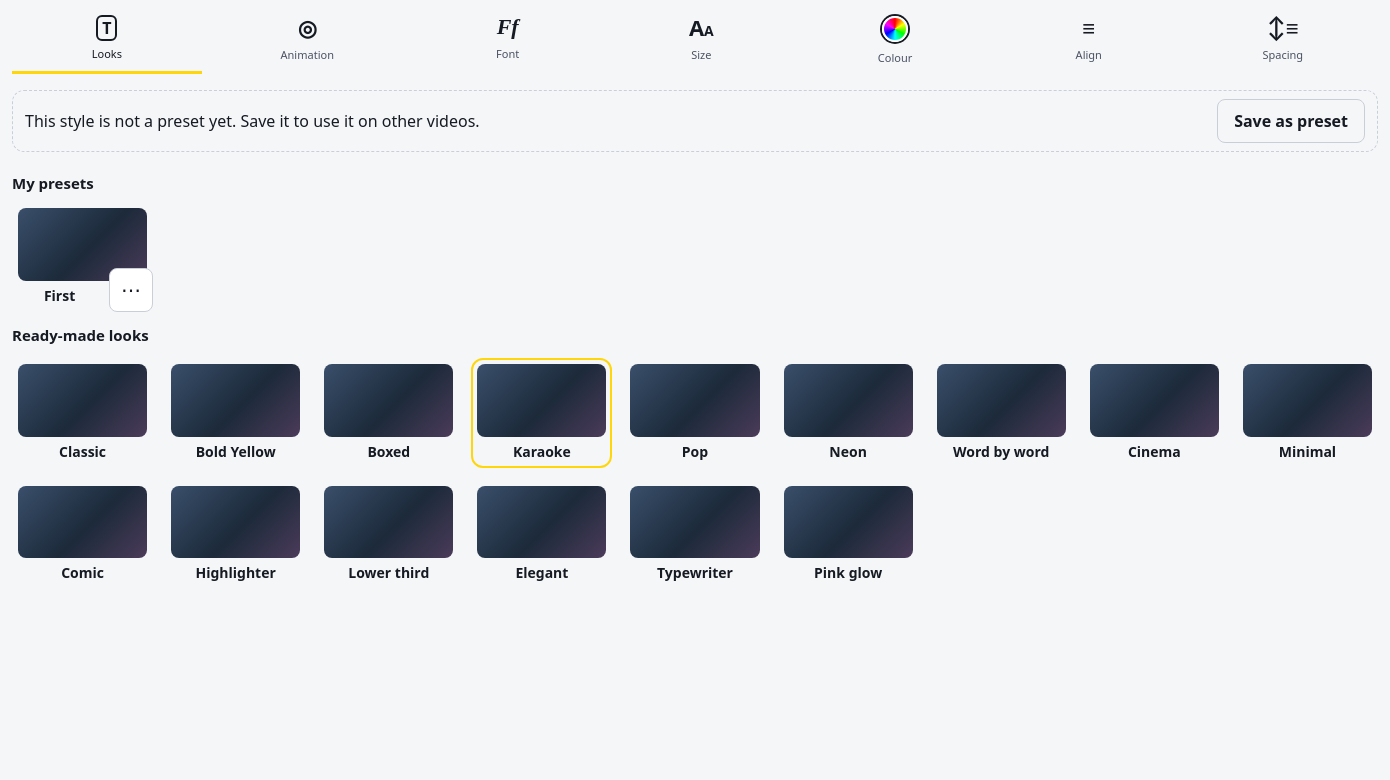
Test case: Presets › renames, replaces with the current style, and deletes after asking
This screenshot has width=1390, height=780.
Step 1. Click the button named "Options for First" → (131,290), box [109,268,153,312]
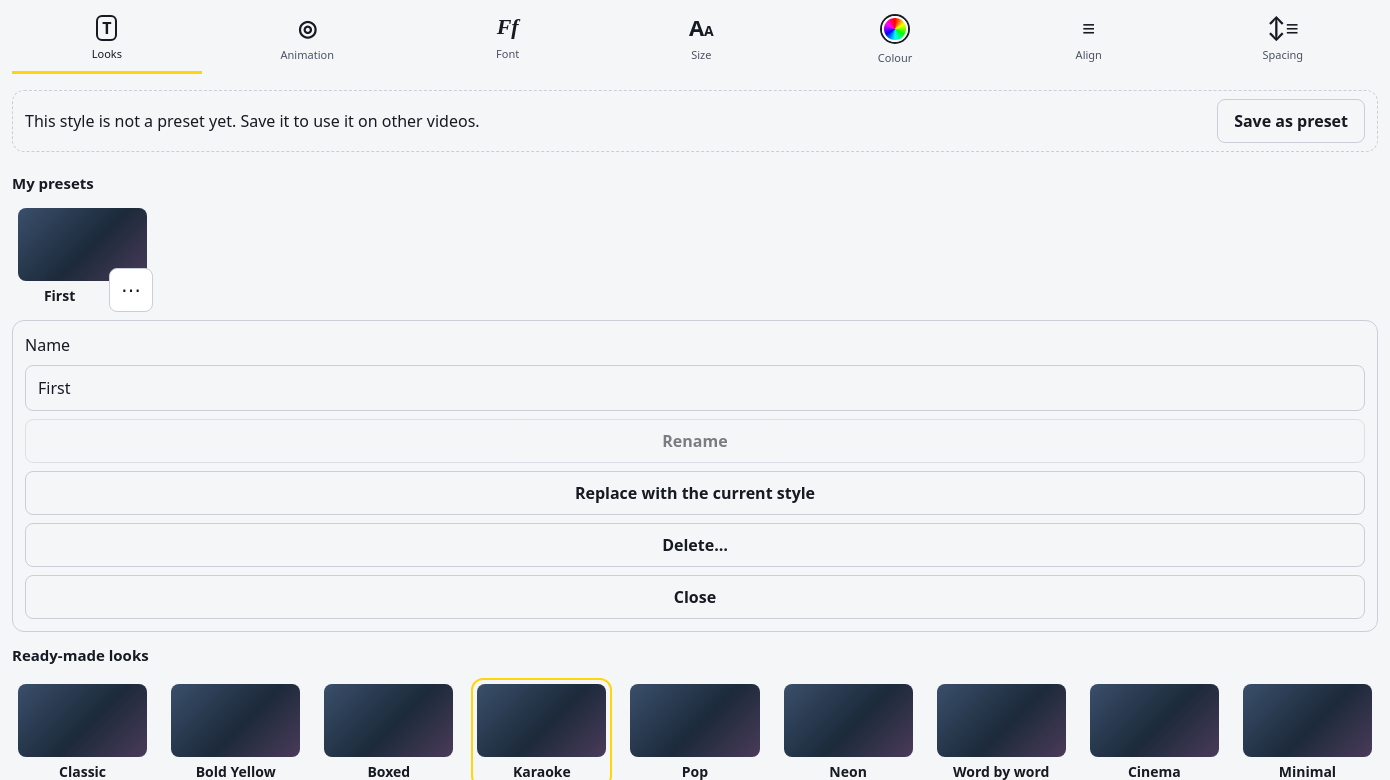
Step 2. Replace the text in the field labelled "Name" with "Renamed" → (695,388), box [25,365,1365,411]
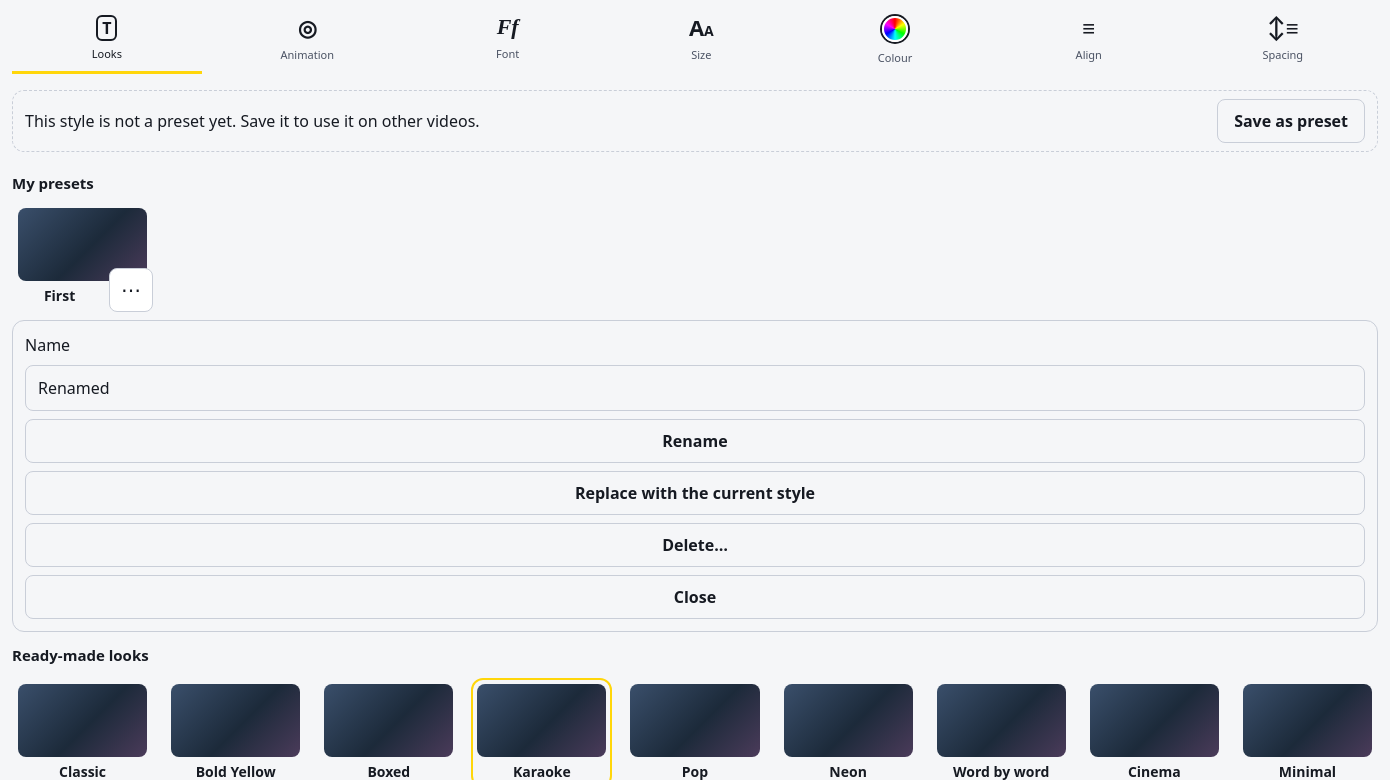
Step 3. Click the button "Rename" → (695,441), box [25,419,1365,463]
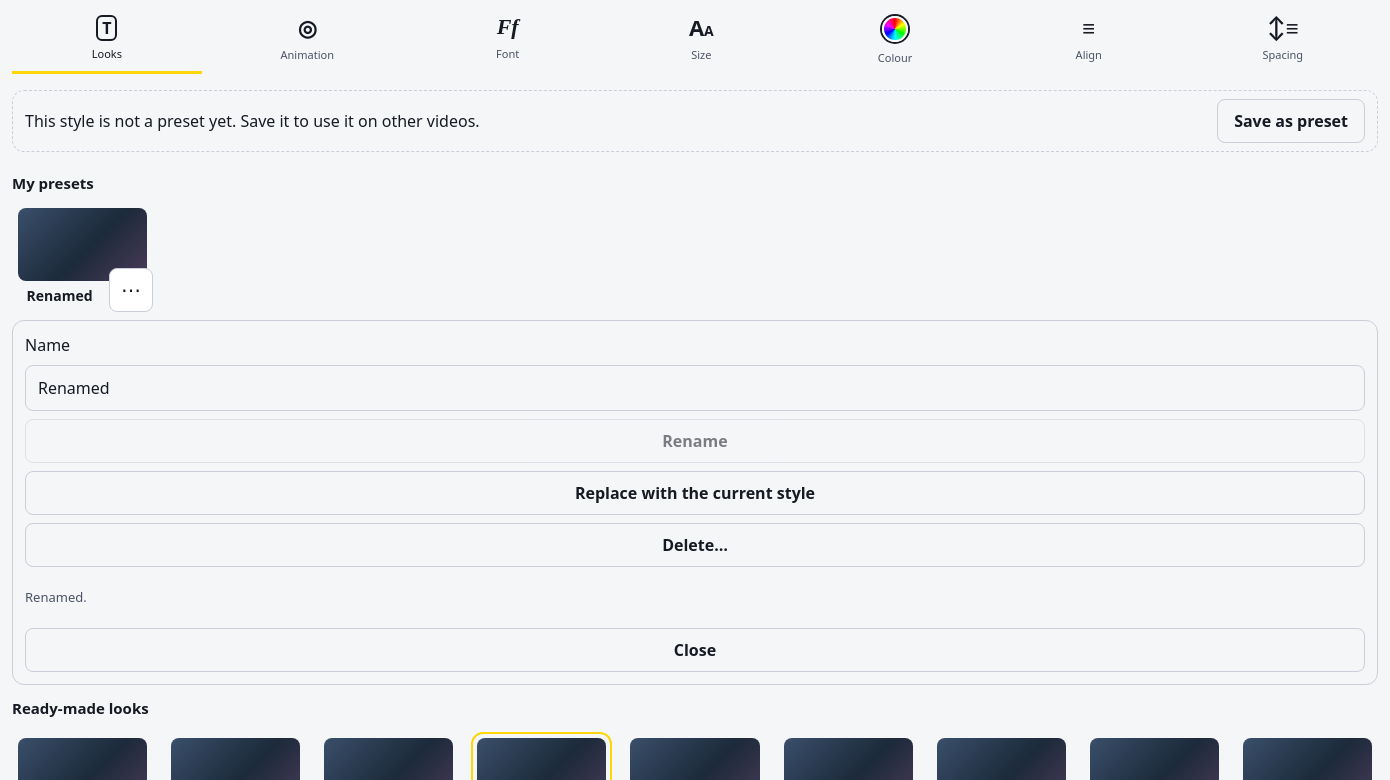
Check: the radio button labelled "Renamed" is shown, box [12,202,153,312]
Check: the text "Renamed." is shown, box [25,588,87,606]
Step 4. Click the button "Replace with the current style" → (695,493), box [25,471,1365,515]
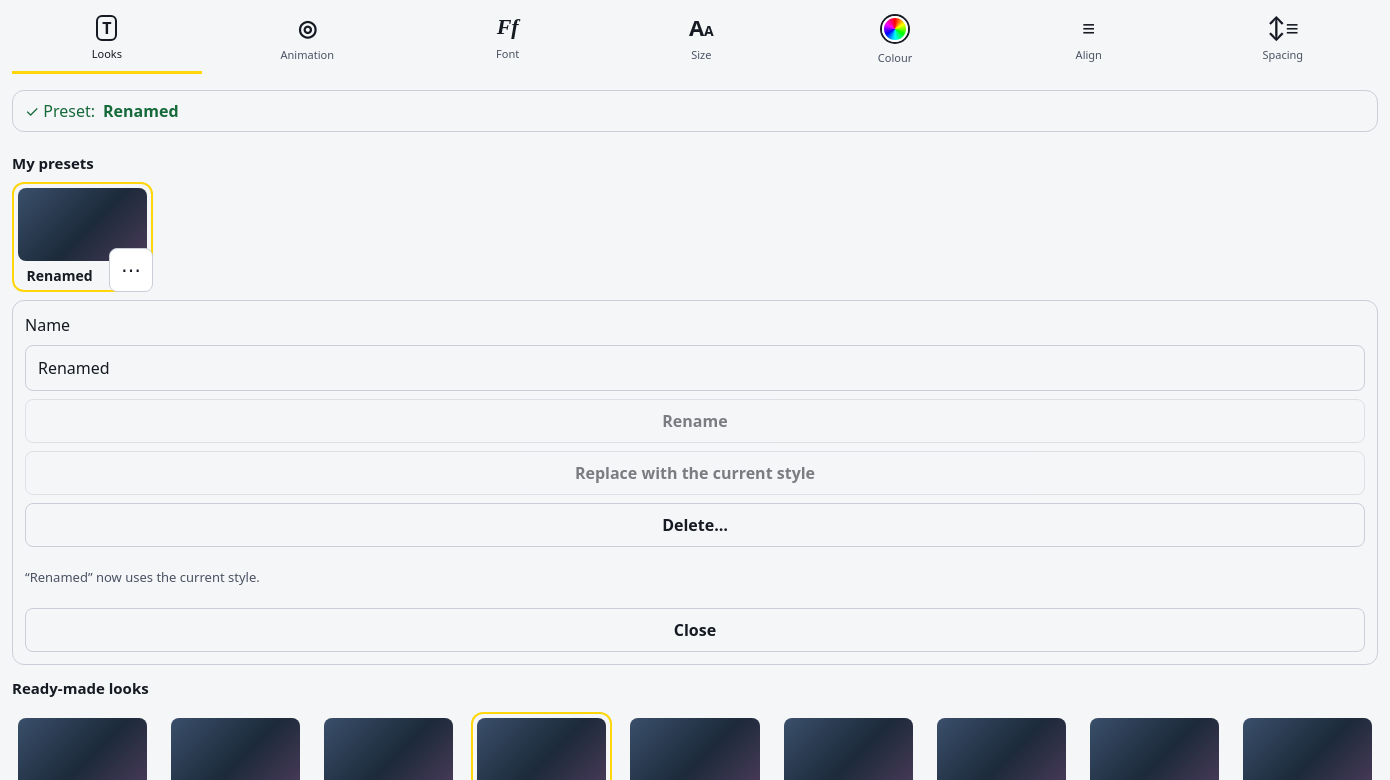
Step 5. Click the button "Delete…" → (695,525), box [25,503,1365,547]
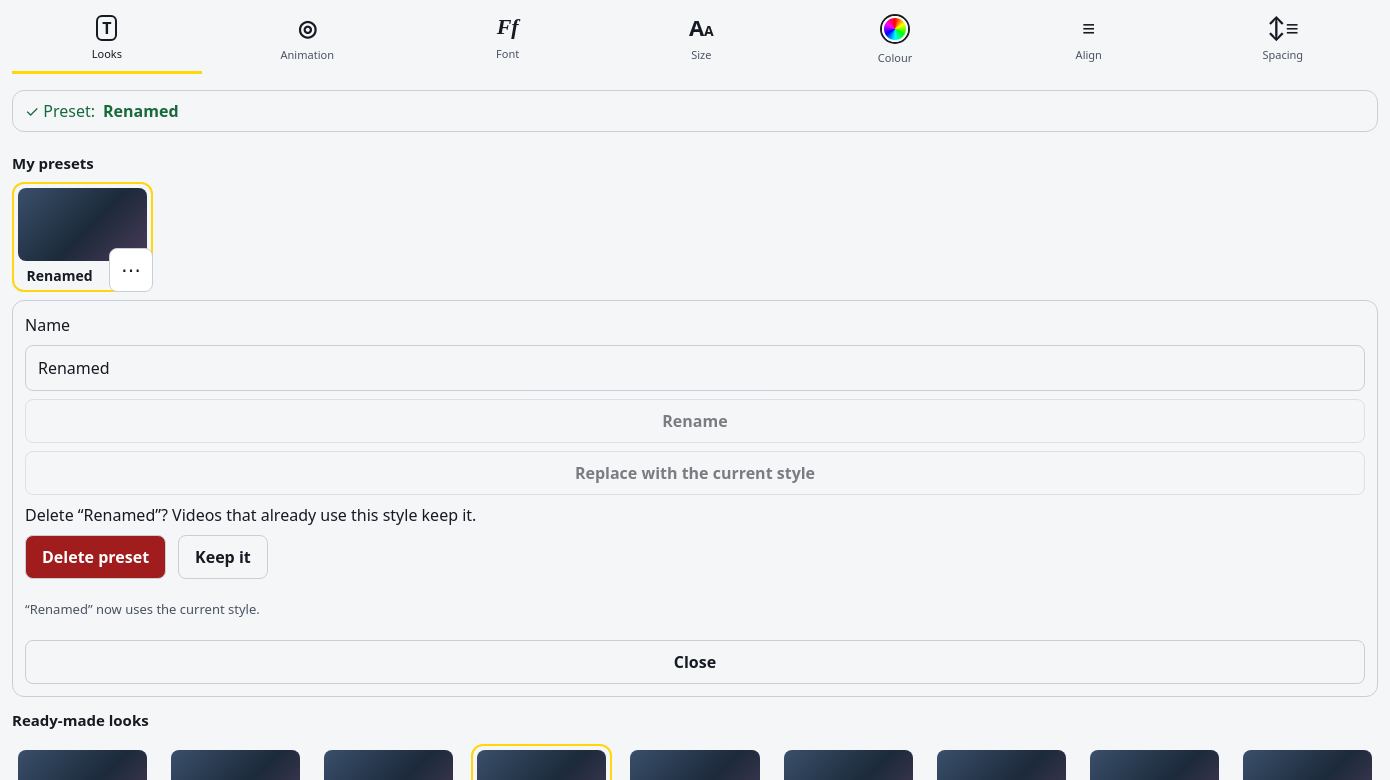
Check: the text "Videos that already use this style keep it" is shown, box [155,504,476,526]
Step 6. Click the button "Delete preset" → (96,557), box [25,535,166,579]
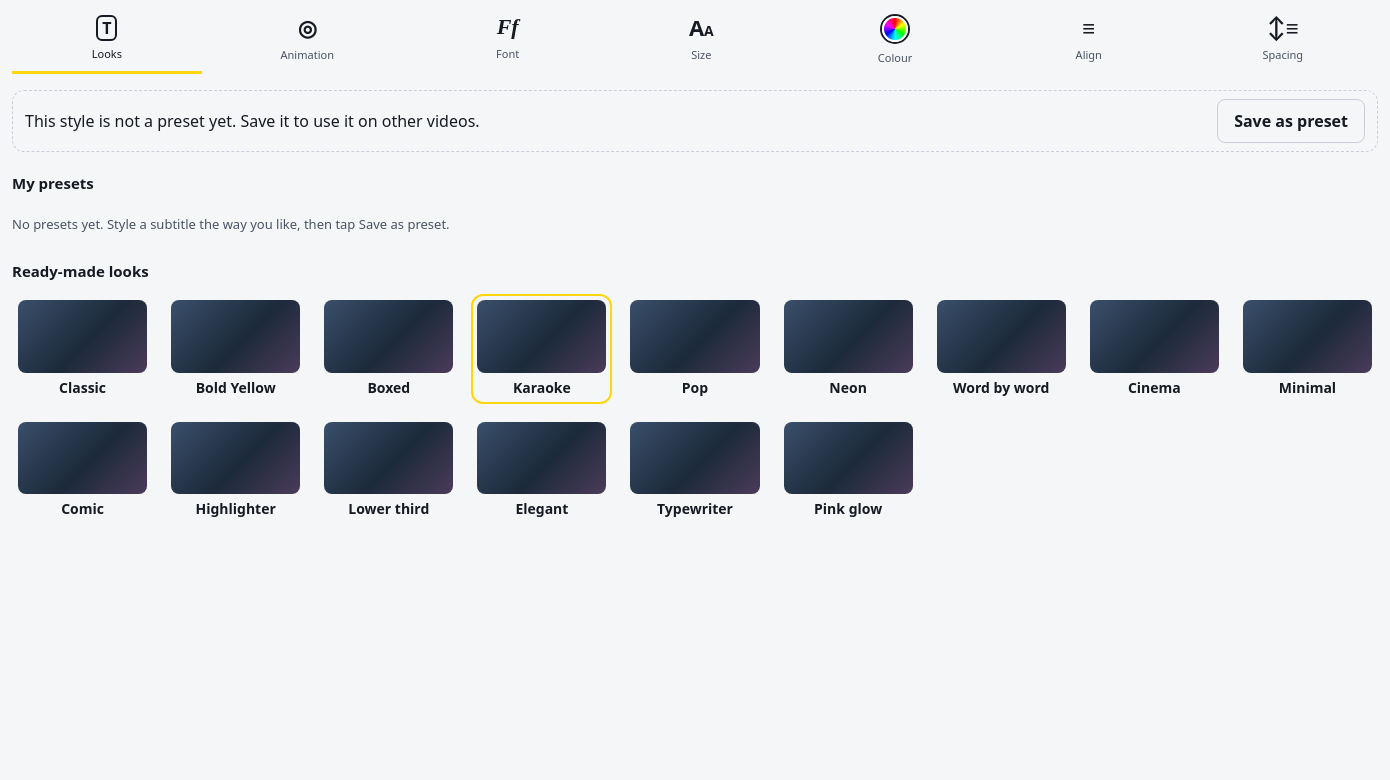
Check: the text "No presets yet" is shown, box [12,215,450,233]
